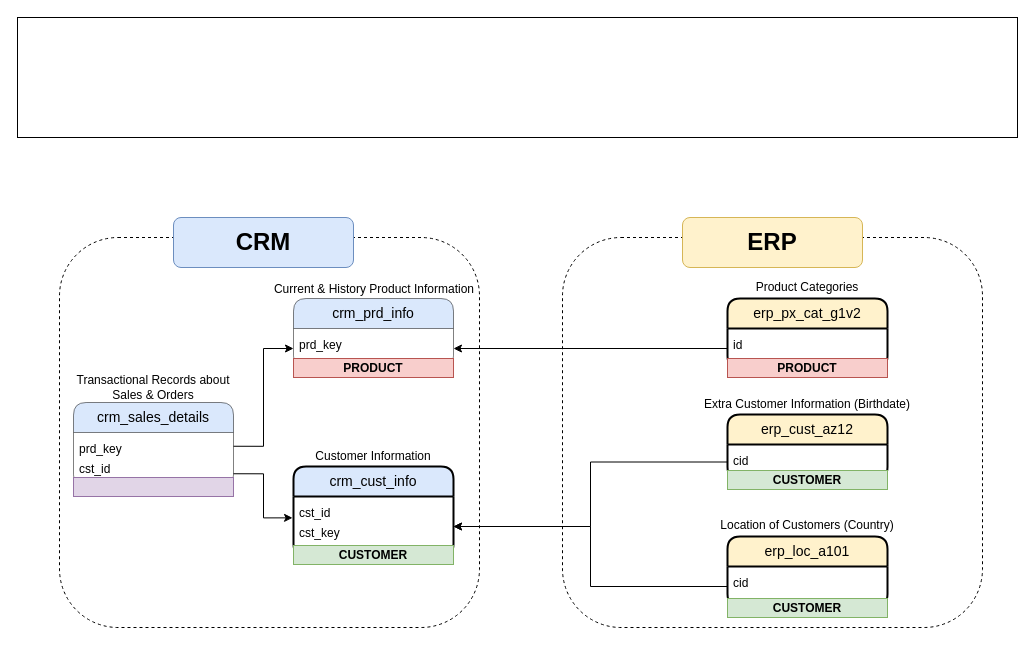
Some shapes in this 1035 by 645 pixel diagram are drawn without their labels. The shapes that lost their labels are listed below. From the top down, each one's centre as x and y in pixels, then its label:
point (517, 77): Data Integration
point (153, 486): SALES
